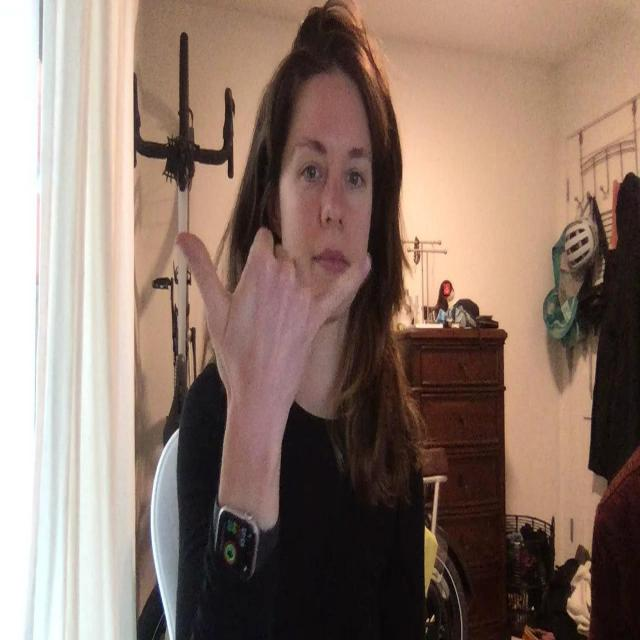face: (278, 92, 372, 324)
